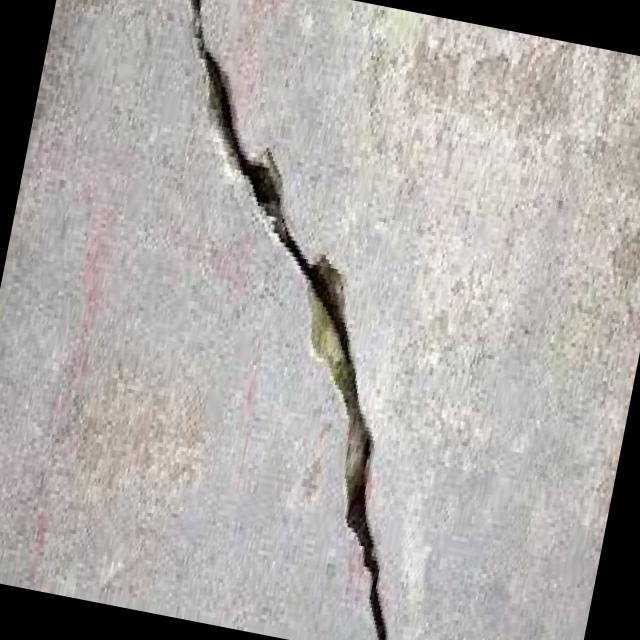crack: (61, 0, 511, 640)
